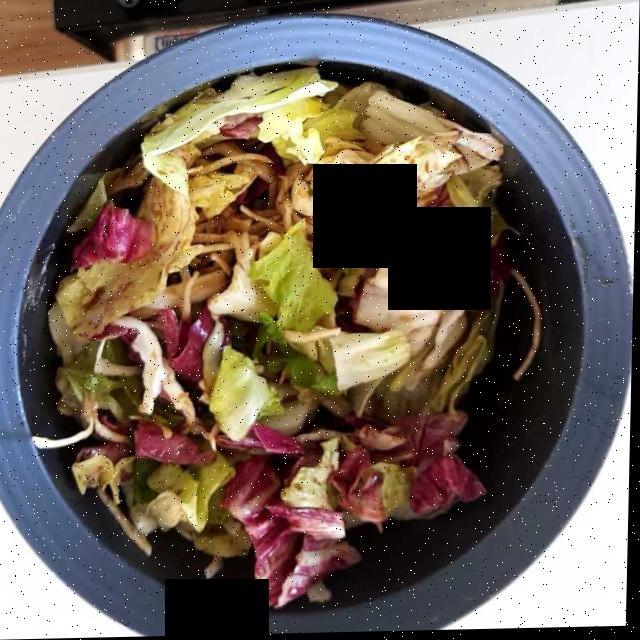salad: (58, 79, 513, 598)
